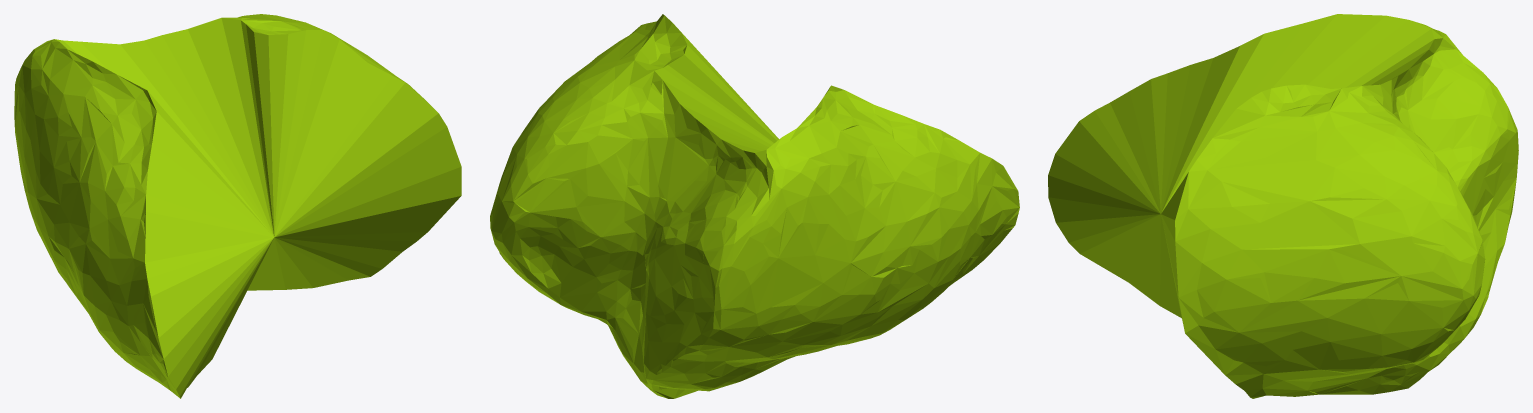
File: Crown_14__Demo_Virtual_Patient.obj
The picture shows the model from 3 angles, left to right: view 1: azimuth 30°, elevation 25°; view 2: azimuth 150°, elevation 25°; view 3: azimuth 270°, elevation 25°; orthographic projection. The views are drawn at different scales.
Size of the model in its own units: 9.12 by 7.32 by 9.57.
